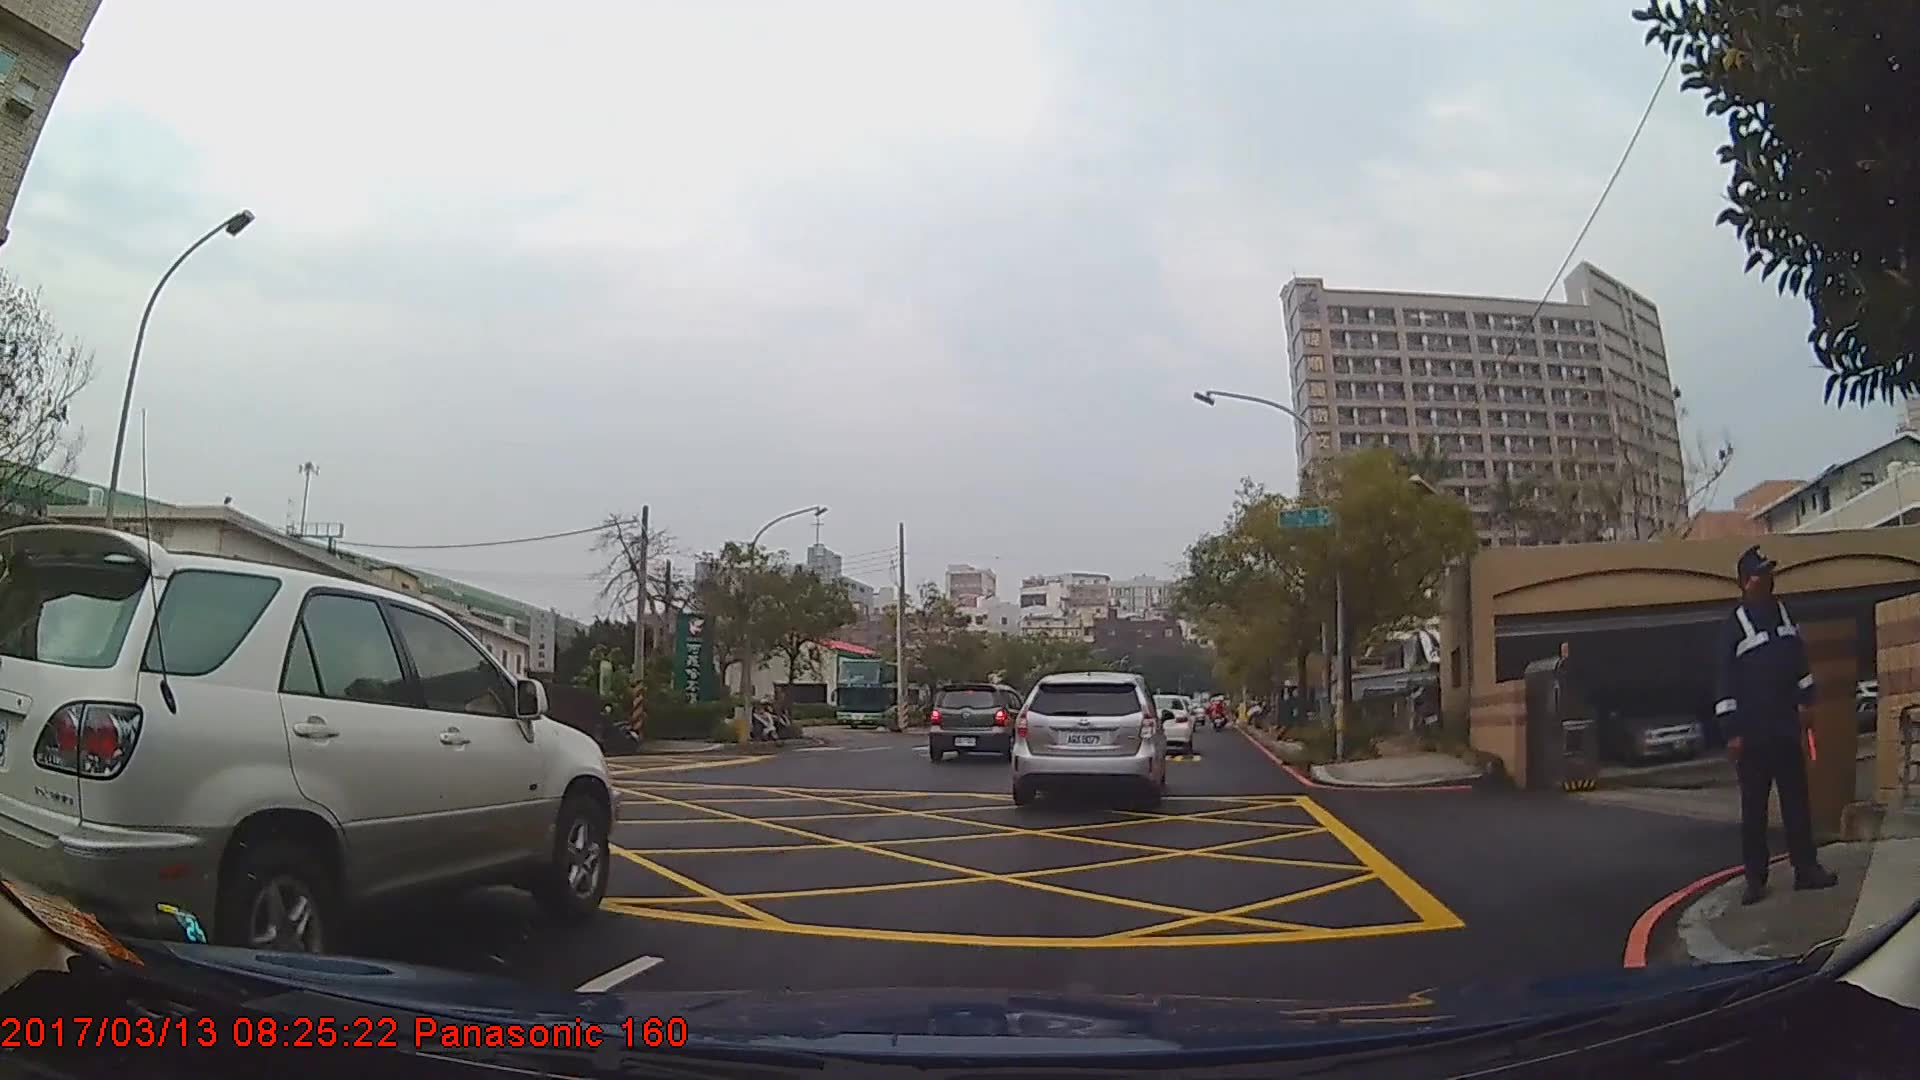pedestrian: (1715, 542, 1836, 912)
vehicle: (0, 520, 618, 992), (1010, 669, 1168, 810), (1592, 682, 1709, 760), (926, 680, 1030, 762), (833, 656, 934, 730), (1132, 692, 1195, 756)
